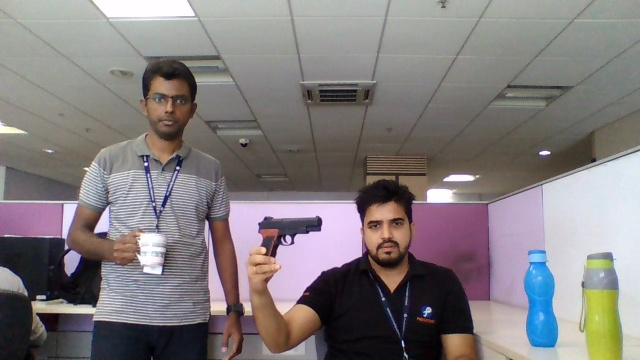gun: (256, 213, 326, 246)
